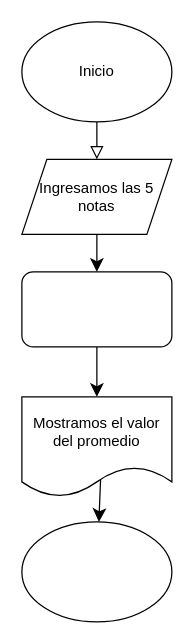
Image size: 194x644. Some labels were removed from this diagram. Each missing label, with the centre of its shape:
Fin: [96,571]
Sumamos todas las notas y dividimos por 5: [96,309]
